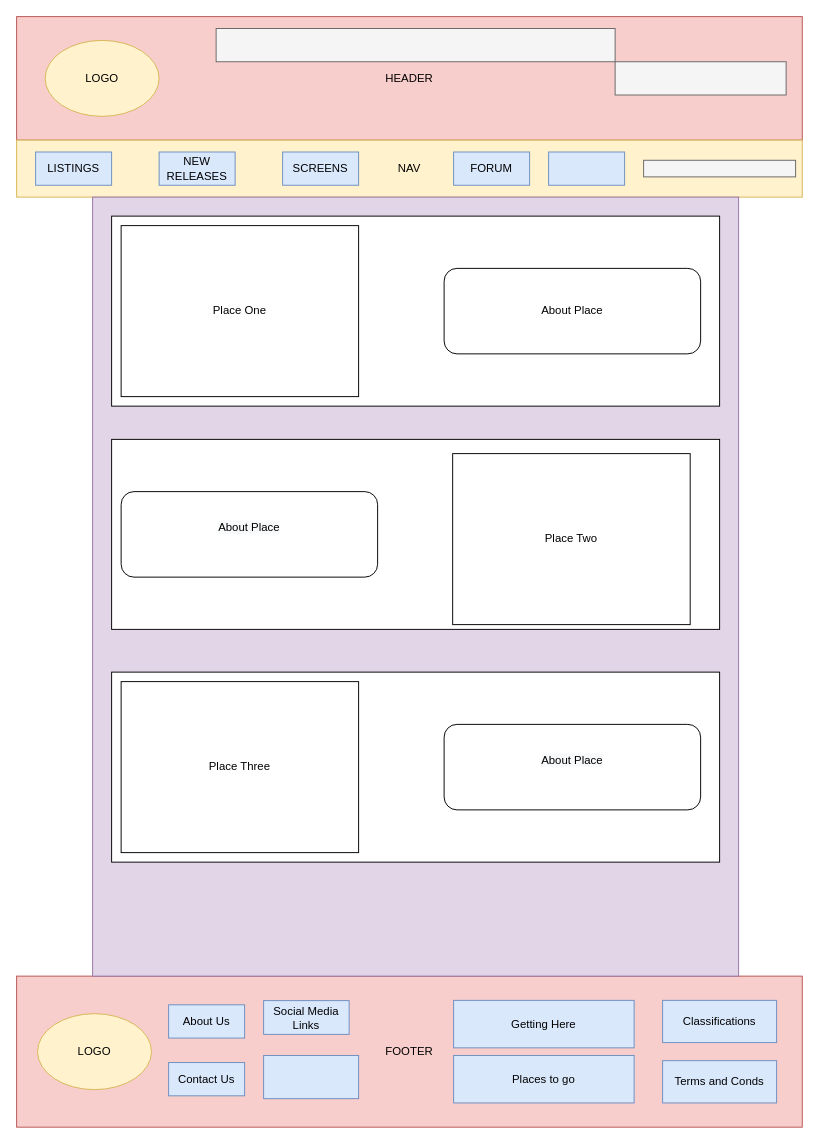
This 819x1144 diagram has some shape labels left out. The centre of each missing label's shape, as x and y in pixels:
NAME: point 415,45
Opening Times: point 311,1076
Our Rating: point 700,78
Search: point 719,168
